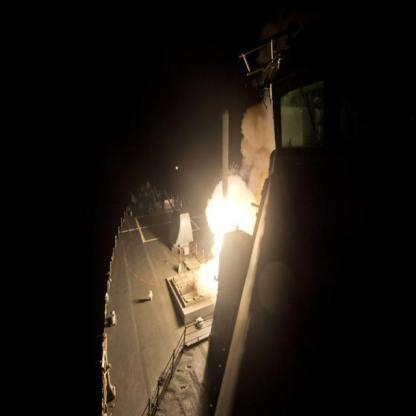MIL_TBM: (220, 103, 230, 206)
